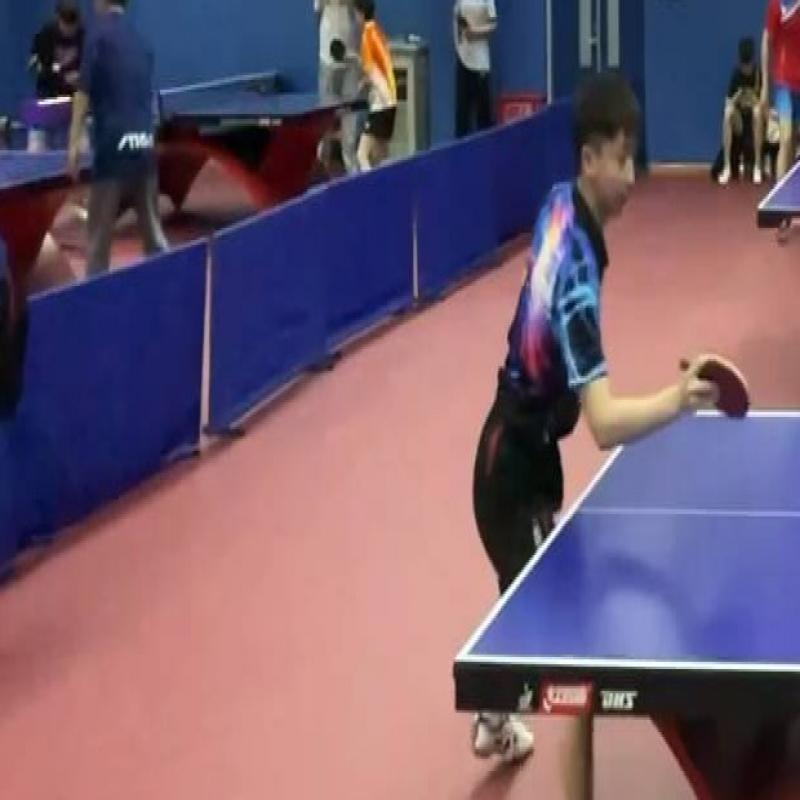bats: (679, 337, 755, 436)
